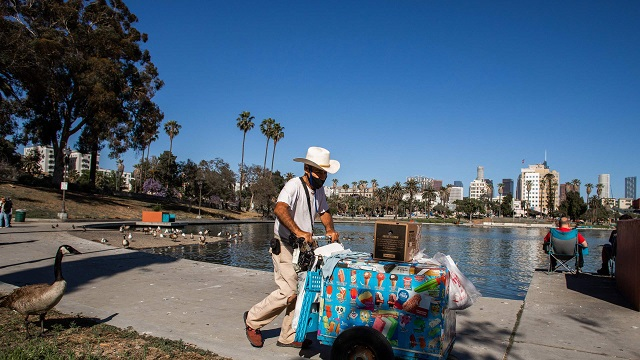box: (369, 222, 425, 264)
cart: (322, 257, 455, 360)
person: (246, 146, 338, 345), (541, 216, 588, 271)
tree: (26, 4, 128, 190)
